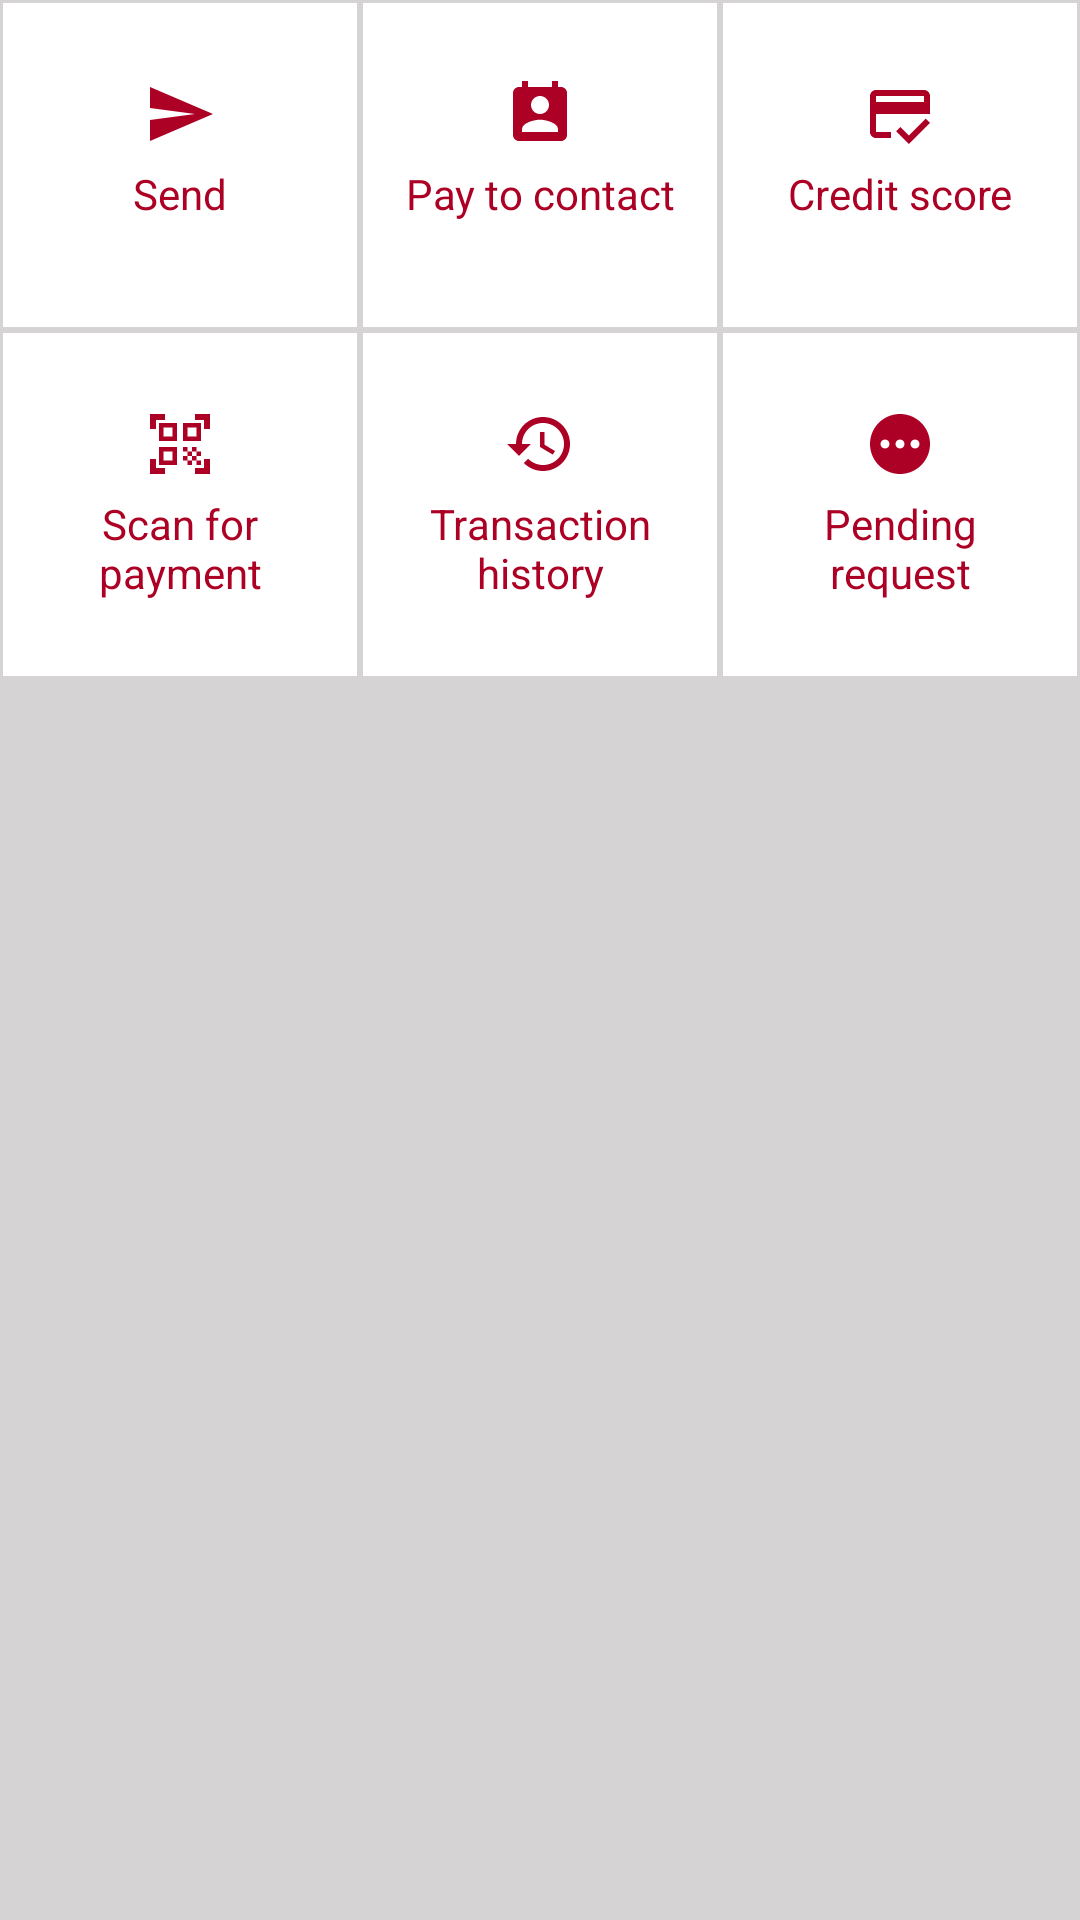

Where icons sit on this 1080 × 1920 app screen, as box=[x1, y1, x2, y2]:
perm contact calendar: box=[513, 81, 567, 141]
qr code scanner: box=[150, 414, 210, 474]
